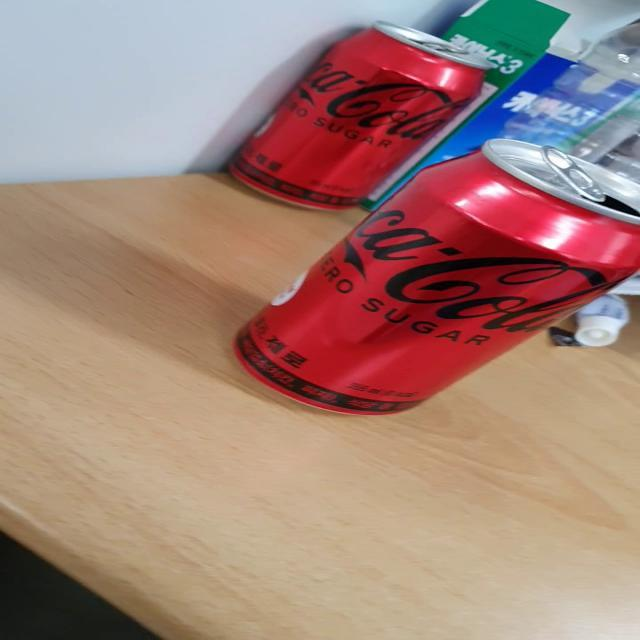coca-cola: (223, 130, 640, 438), (209, 17, 509, 215)
